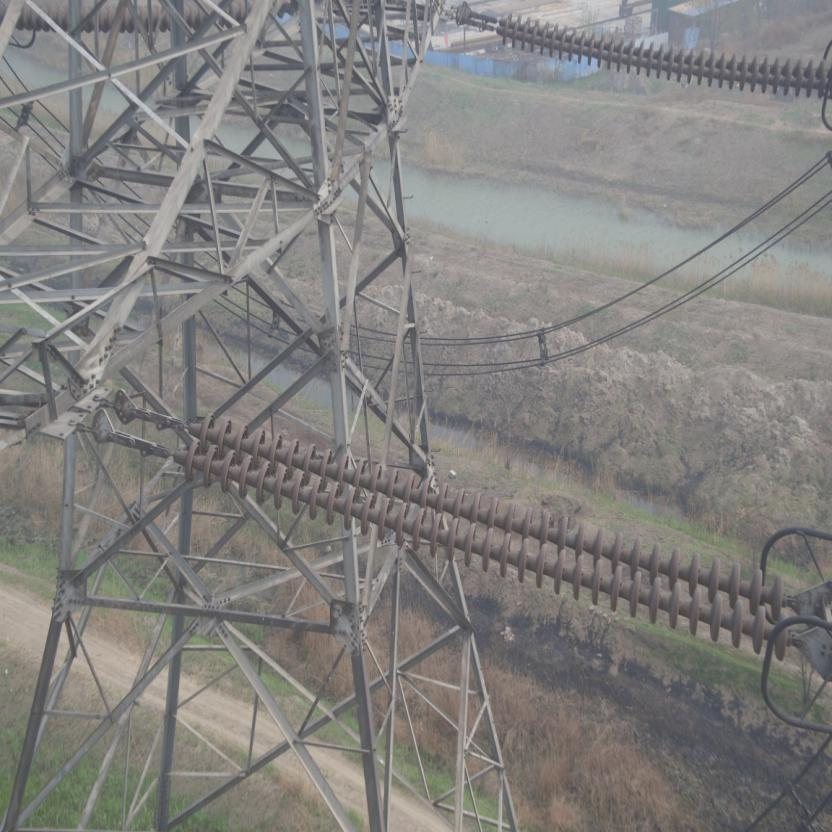insulator: (135, 404, 821, 664), (477, 8, 831, 100)
